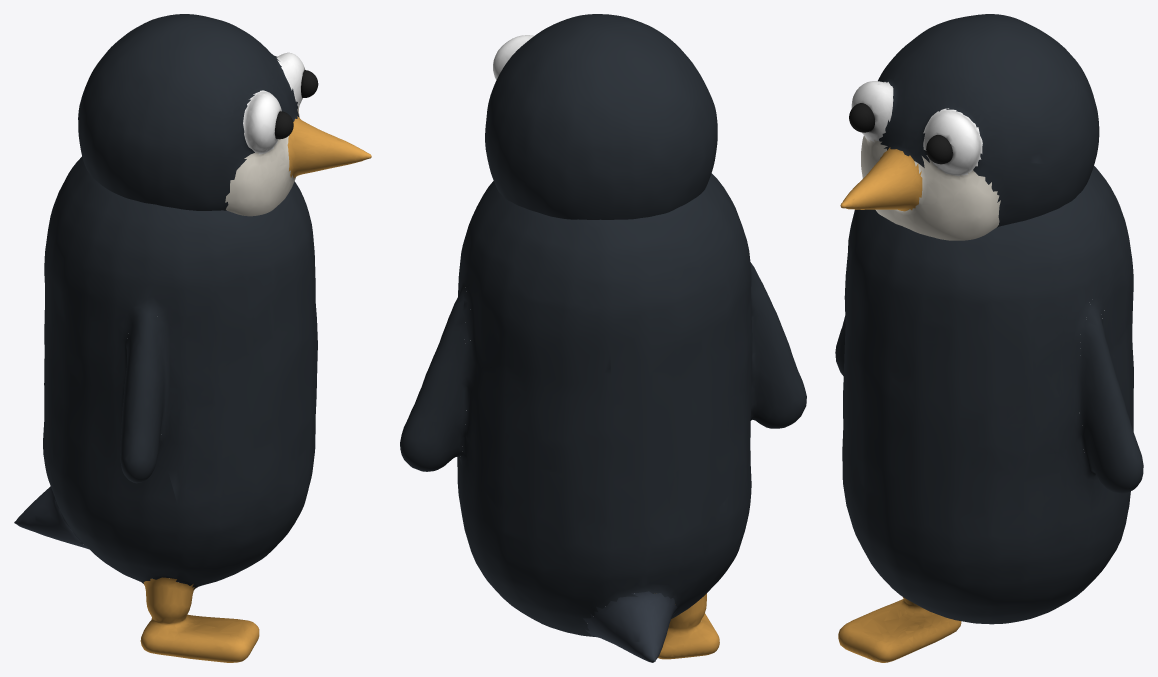
The model's file is jag-hinner-inte-skjuta-pa-det.glb.
3 views of the same model, side by side, from view 1: azimuth 30°, elevation 25°; view 2: azimuth 150°, elevation 25°; view 3: azimuth 270°, elevation 25° (orthographic). The views are drawn at different scales.
Parts seen in each view (by area): view 1: pinguim__r0, cabeca__r0; view 2: pinguim__r0, cabeca__r0; view 3: pinguim__r0, cabeca__r0, cabeca__r2, cabeca__r1.
Part boxes in pixels (bbox=[...]): pinguim__r0: bbox=[14, 156, 317, 662]; cabeca__r0: bbox=[78, 14, 371, 216]; pinguim__r0: bbox=[400, 173, 806, 662]; cabeca__r0: bbox=[485, 14, 717, 219]; pinguim__r0: bbox=[835, 166, 1143, 662]; cabeca__r0: bbox=[840, 14, 1099, 240]; cabeca__r2: bbox=[926, 135, 952, 164]; cabeca__r1: bbox=[849, 103, 874, 132].
Size of the model in its own units: 0.7038 by 1.63 by 0.7171.
